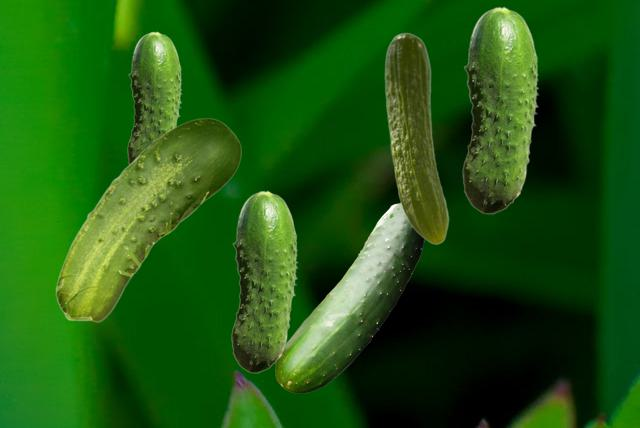cucumber: (55, 118, 240, 321), (275, 202, 423, 392), (462, 6, 538, 213), (384, 32, 448, 244), (231, 190, 297, 372), (127, 31, 181, 164)
